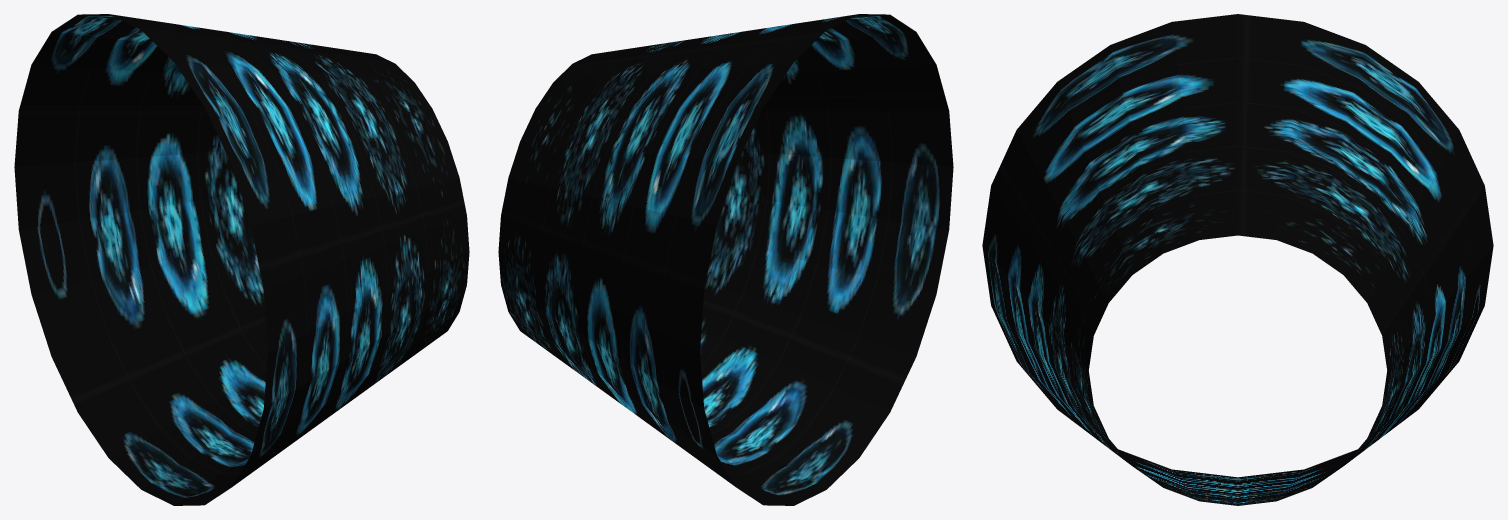
The model's file is 0144_S_FX_yuanzhu_001.glb.
3 renders of one model, left to right at view 1: azimuth 30°, elevation 25°; view 2: azimuth 150°, elevation 25°; view 3: azimuth 270°, elevation 25°, orthographic.
Bounding box in the file's own units: 1.27 × 2.2 × 2.2.
1 material, 1 textured.
